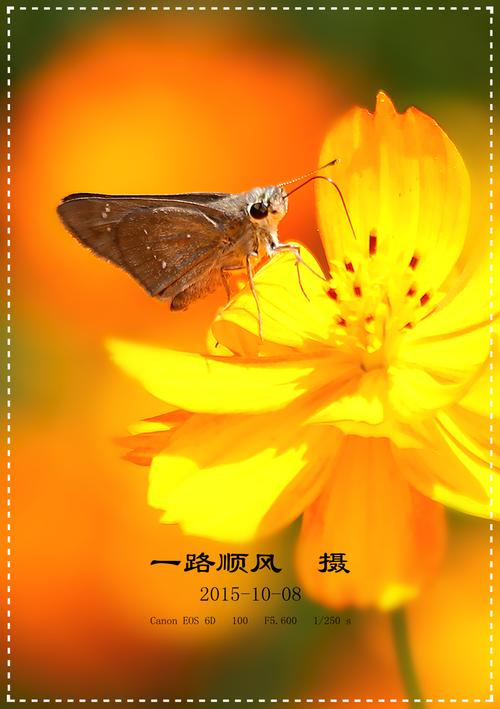Hesperiidae: (54, 160, 356, 326)
